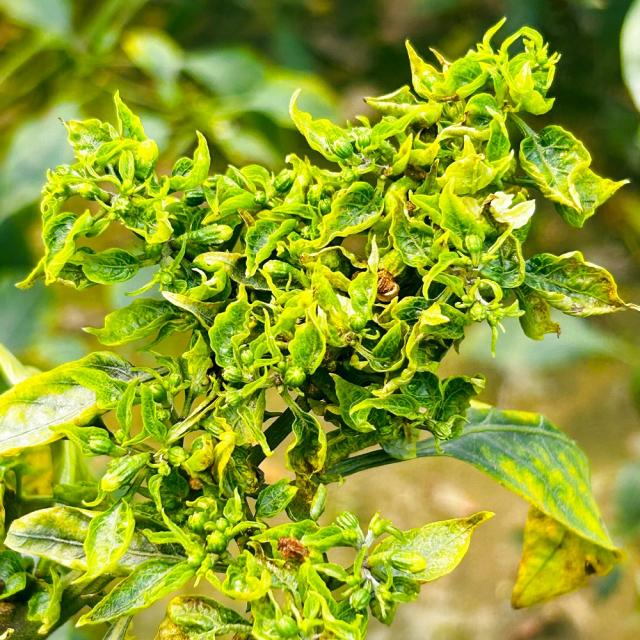Chilli_Leaf_Curl: (1, 15, 637, 638), (318, 397, 623, 609), (14, 88, 211, 292), (0, 349, 168, 458)
